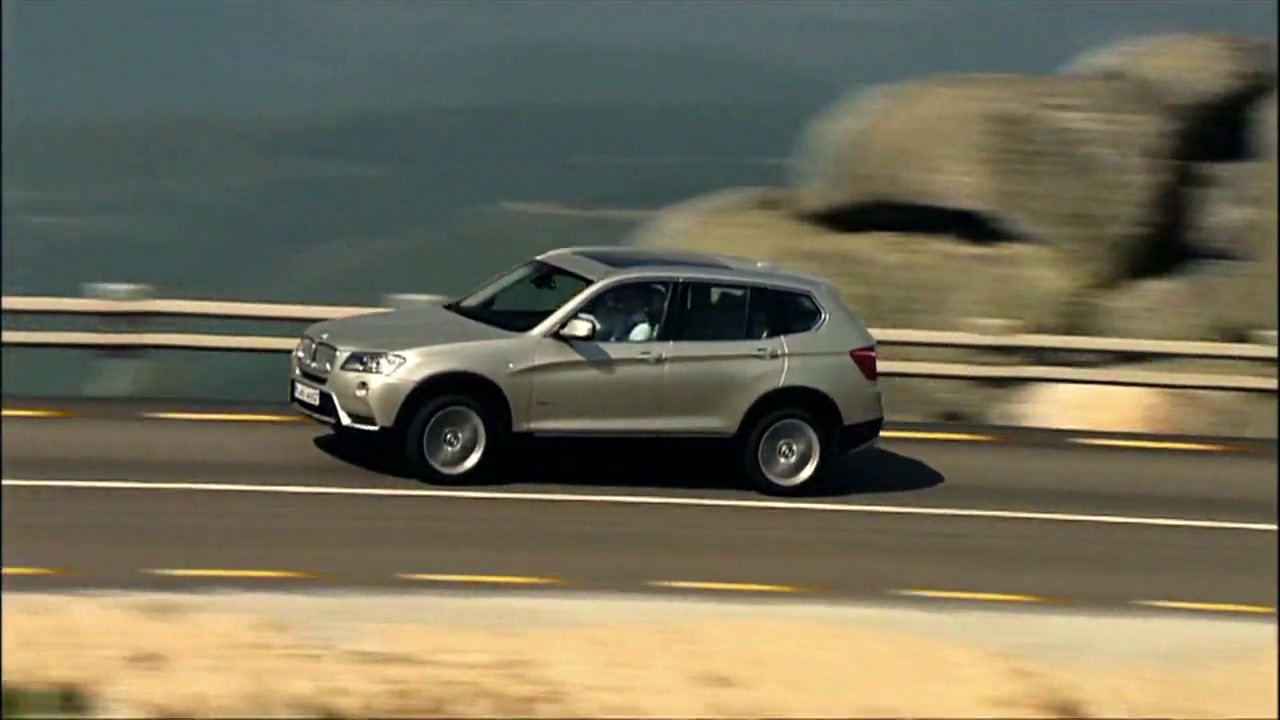car: (290, 238, 893, 500)
